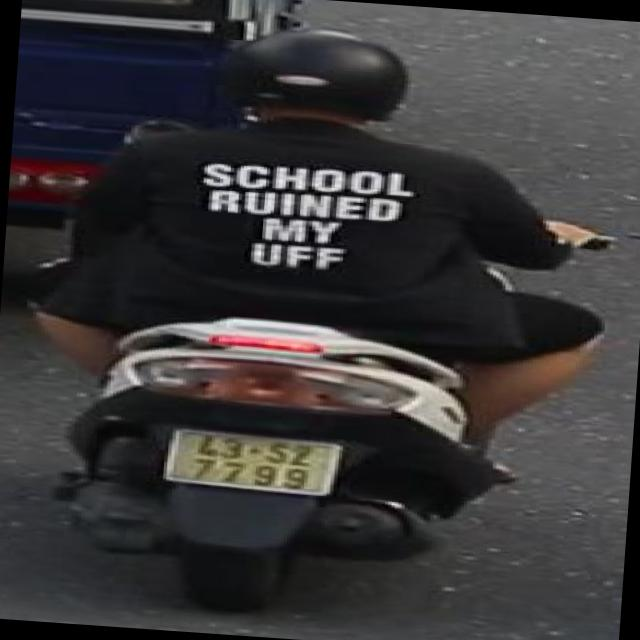LP: (155, 422, 350, 503)
